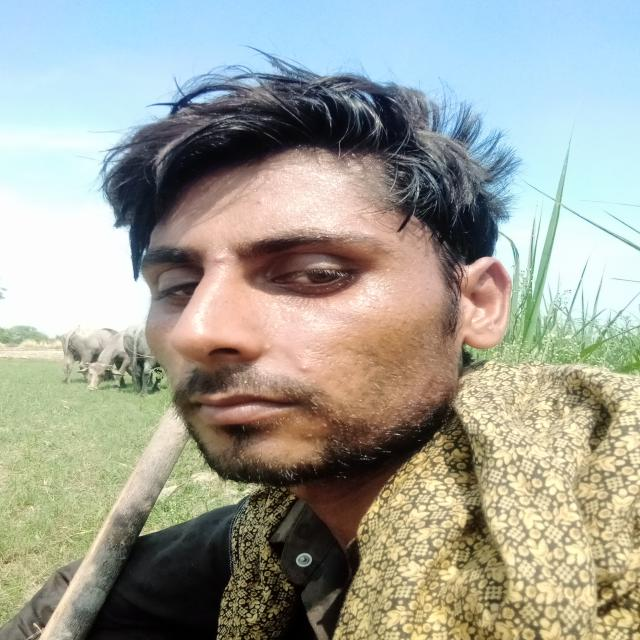Acne: (262, 342, 282, 355), (296, 363, 313, 372), (317, 422, 332, 432), (301, 434, 319, 442), (213, 255, 228, 264), (254, 198, 268, 205)
